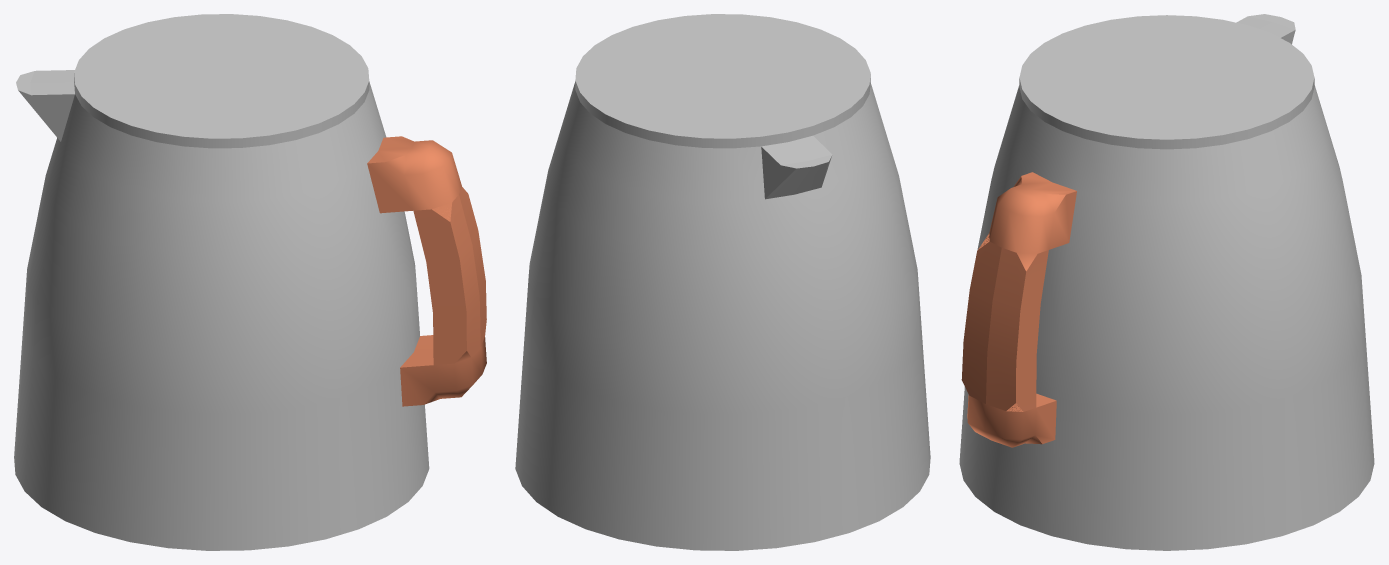
Rendered from czajnik.fbx.
3 renders of one model, left to right at view 1: azimuth 30°, elevation 25°; view 2: azimuth 150°, elevation 25°; view 3: azimuth 270°, elevation 25°, orthographic.
Parts seen in each view (by area): view 1: Cylinder; view 2: Cylinder; view 3: Cylinder.
Part boxes in pixels (x1,y1,x2,y2): Cylinder: [14, 14, 486, 550]; Cylinder: [515, 14, 930, 550]; Cylinder: [959, 14, 1374, 550].
Size of the model in its own units: 205 by 205 by 200.
